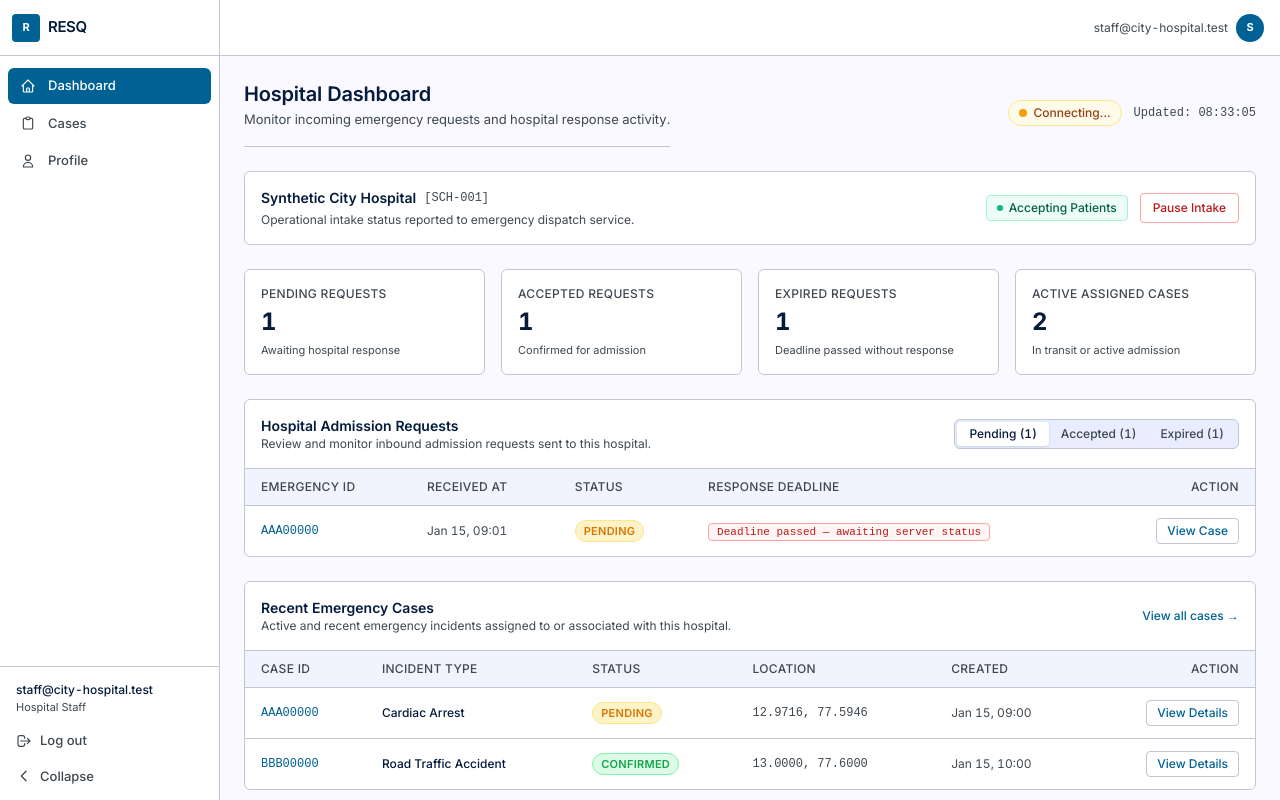
Test: HospitalDashboard — Initial Rendering & State › allows switching tabs between Pending, Accepted, and Expired requests
Note: Switch to Accepted tab
Click the button "Accepted (1)" at (1099, 434), box [1049, 422, 1148, 446]
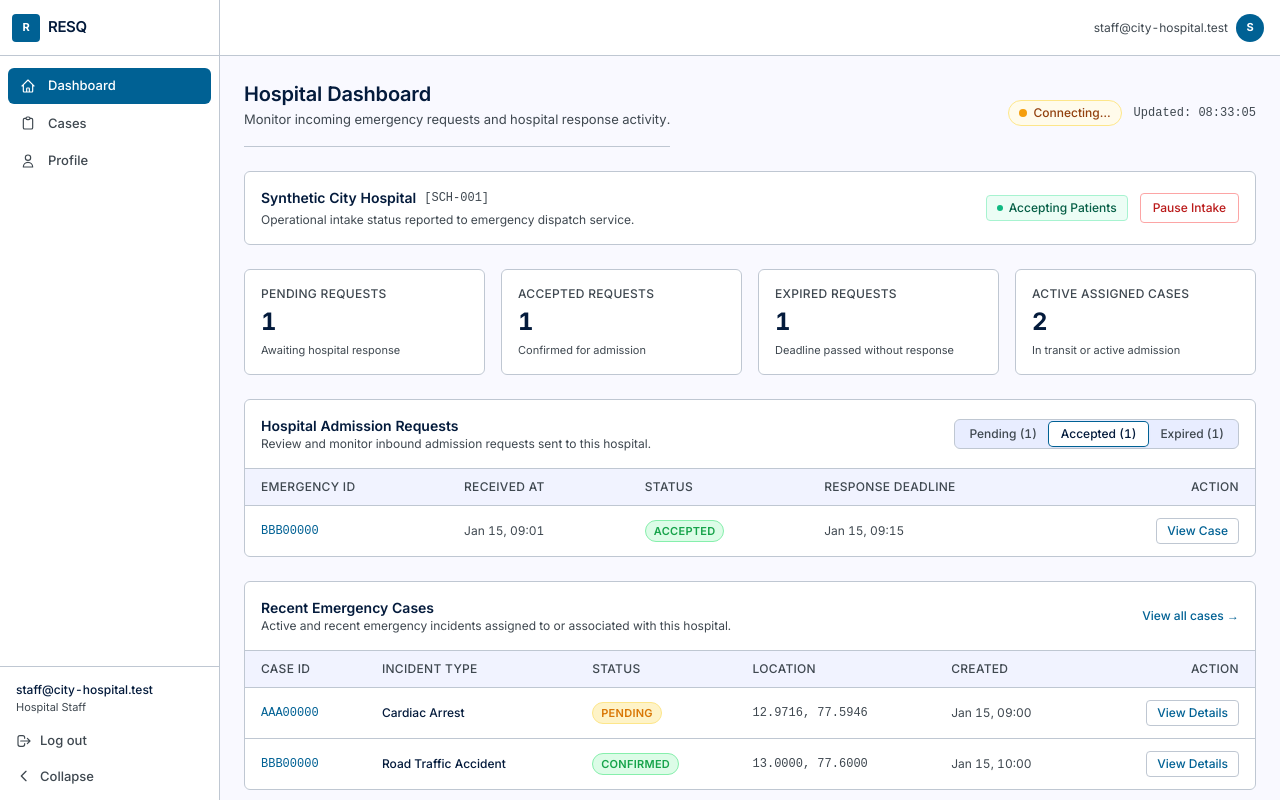
Note: Switch to Expired tab
Click the button "Expired (1)" at (1192, 434), box [1148, 422, 1236, 446]
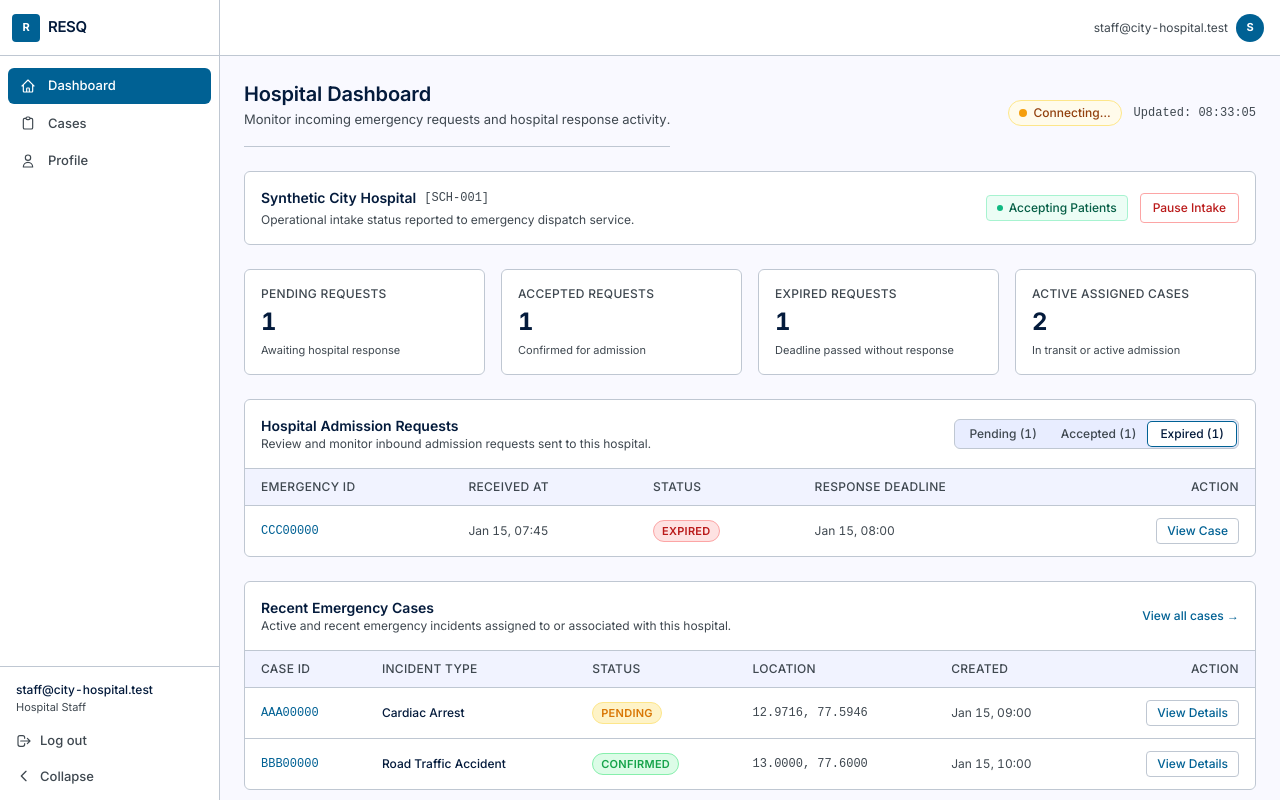
Check: the link "CCC00000" is shown, box [261, 524, 319, 538]
